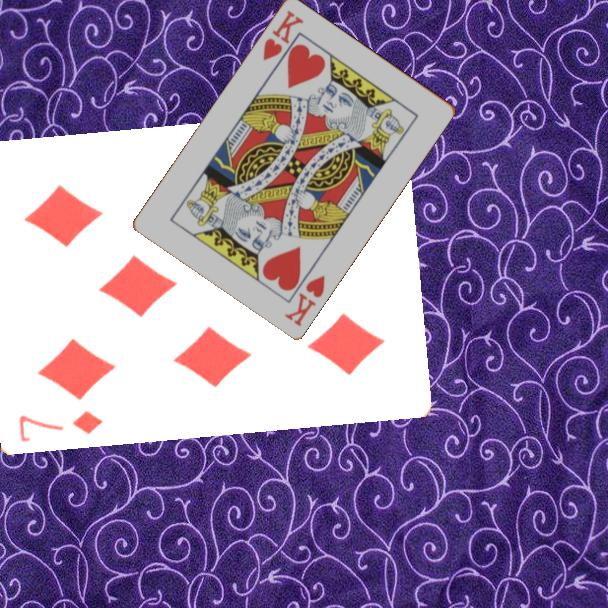d07: (14, 407, 105, 445)
h13: (259, 6, 306, 64), (281, 271, 328, 329)
